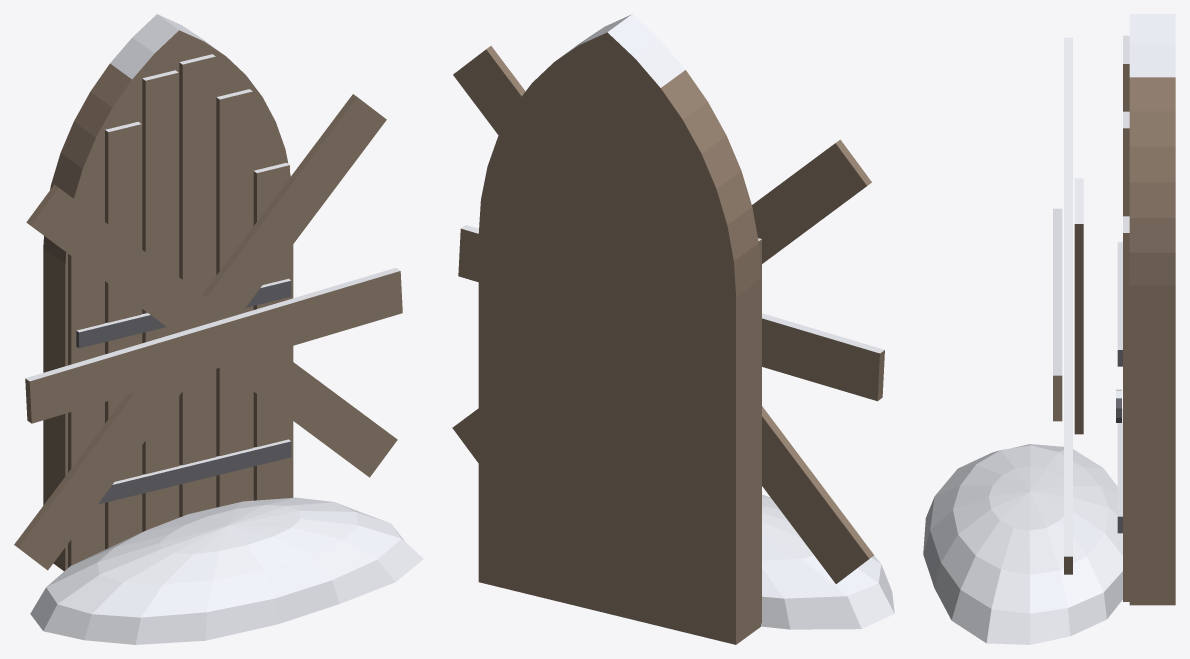
File: PR_Bloqueio_Casinha_Porta.fbx
The picture shows the model from 3 angles, left to right: view 1: azimuth 30°, elevation 25°; view 2: azimuth 150°, elevation 25°; view 3: azimuth 270°, elevation 25°; orthographic projection. The views are drawn at different scales.
Visible parts, largest first — view 1: PR_Bloqueio_Casinha_Porta; view 2: PR_Bloqueio_Casinha_Porta; view 3: PR_Bloqueio_Casinha_Porta.
Boxes of the visible parts, x1=… form: PR_Bloqueio_Casinha_Porta: x1=14, y1=14, x2=423, y2=644; PR_Bloqueio_Casinha_Porta: x1=452, y1=14, x2=894, y2=644; PR_Bloqueio_Casinha_Porta: x1=923, y1=14, x2=1175, y2=644.
Size of the model in its own units: 2.93 by 3.89 by 1.65.
